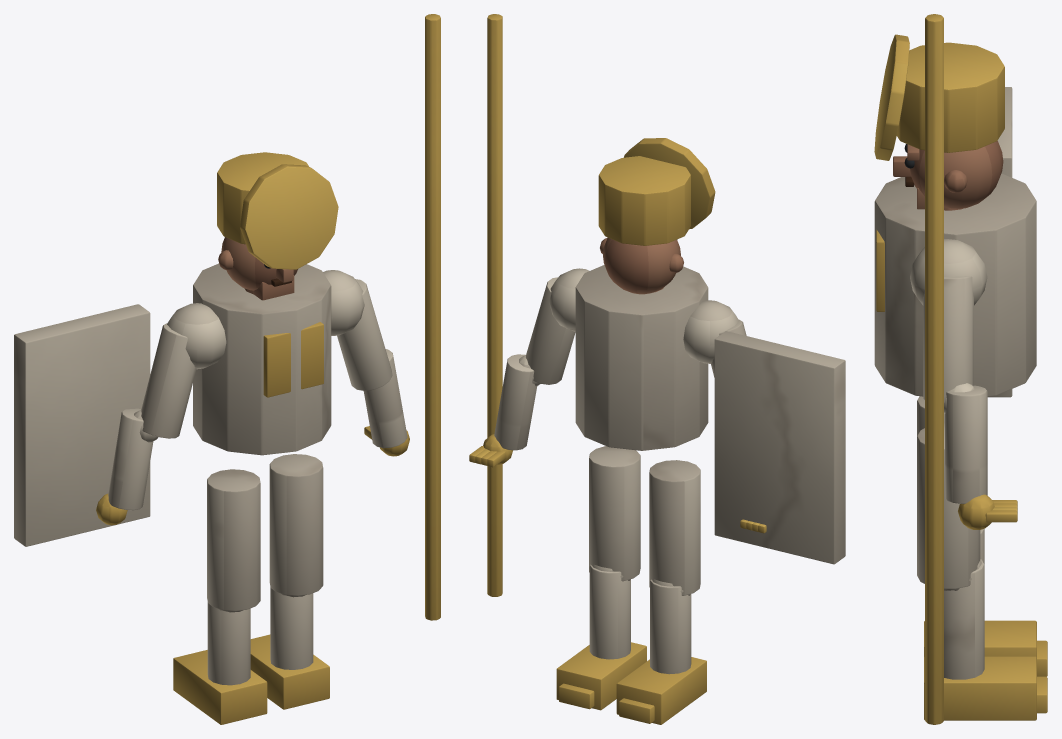
The model's file is unit_church_radiant_guard.fbx.
3 renders of one model, left to right at view 1: azimuth 30°, elevation 25°; view 2: azimuth 150°, elevation 25°; view 3: azimuth 270°, elevation 25°, orthographic. The views are drawn at different scales.
Visible parts, largest first — view 1: unit_church_radiant_guard; view 2: unit_church_radiant_guard; view 3: unit_church_radiant_guard.
Boxes of the visible parts, left/top/right/bottom form: unit_church_radiant_guard: left=14, top=14, right=440, bottom=724; unit_church_radiant_guard: left=469, top=14, right=845, bottom=724; unit_church_radiant_guard: left=874, top=14, right=1047, bottom=724.
Bounding box in the file's own units: 1.51 × 2.39 × 0.4901.
